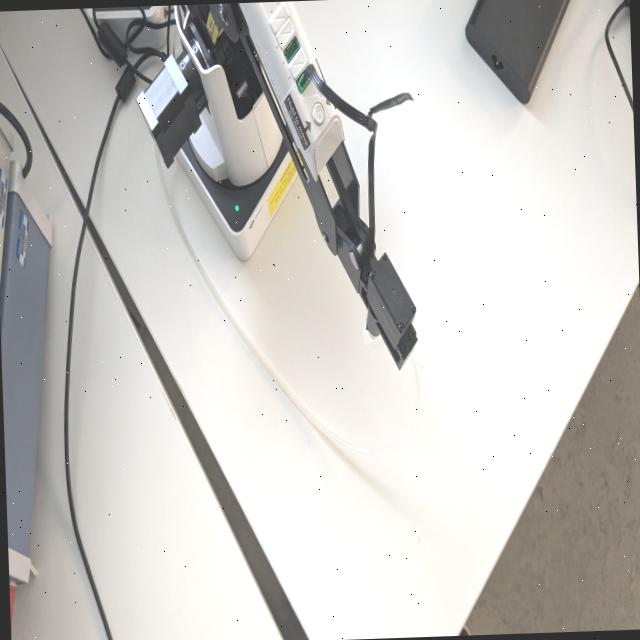Robot-end-effector-HF8z: (359, 242, 422, 374)
